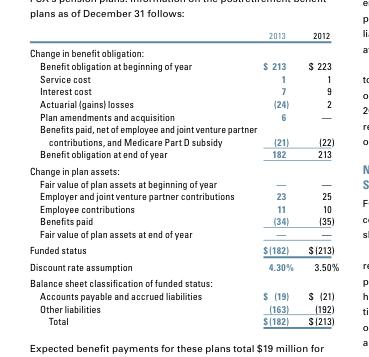table: (28, 28, 338, 326)
table column: (28, 28, 248, 326), (248, 28, 300, 326), (300, 28, 338, 326)
table column header: (28, 28, 338, 43)
table projected row header: (28, 43, 338, 59), (28, 161, 338, 176), (28, 274, 338, 288), (28, 122, 338, 134)
table row: (28, 257, 338, 274), (28, 43, 338, 59), (28, 241, 338, 257), (28, 28, 338, 43), (28, 161, 338, 176), (28, 226, 338, 241), (28, 147, 338, 161), (28, 274, 338, 288), (28, 71, 338, 84), (28, 96, 338, 109), (28, 109, 338, 122), (28, 134, 338, 147), (28, 176, 338, 189), (28, 201, 338, 214), (28, 288, 338, 301), (28, 301, 338, 314), (28, 59, 338, 71), (28, 84, 338, 96), (28, 122, 338, 134), (28, 189, 338, 201), (28, 214, 338, 226), (28, 314, 338, 326)
